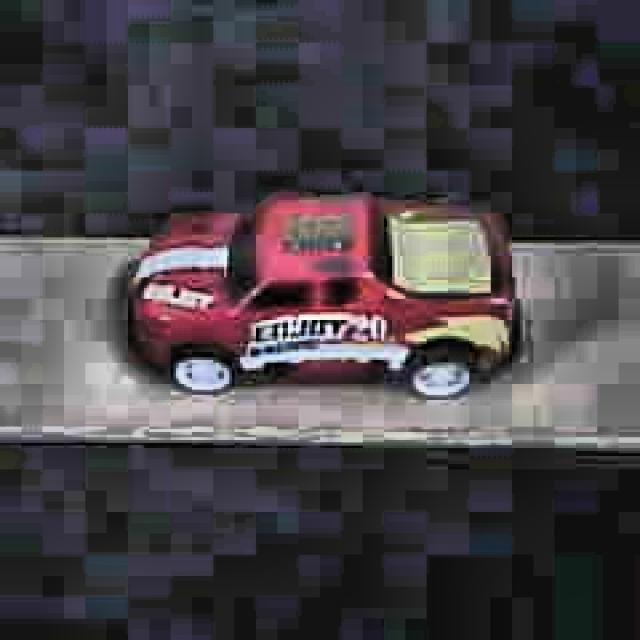car: (123, 190, 524, 399)
